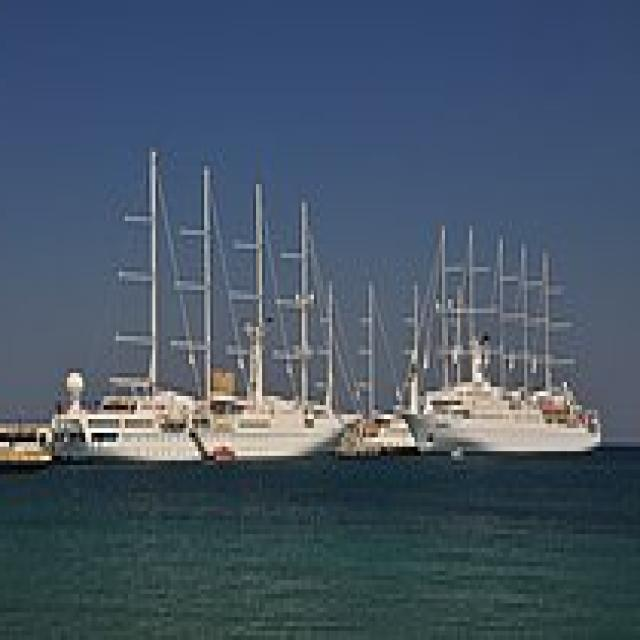Cruise: (399, 216, 610, 456), (189, 281, 363, 460)
